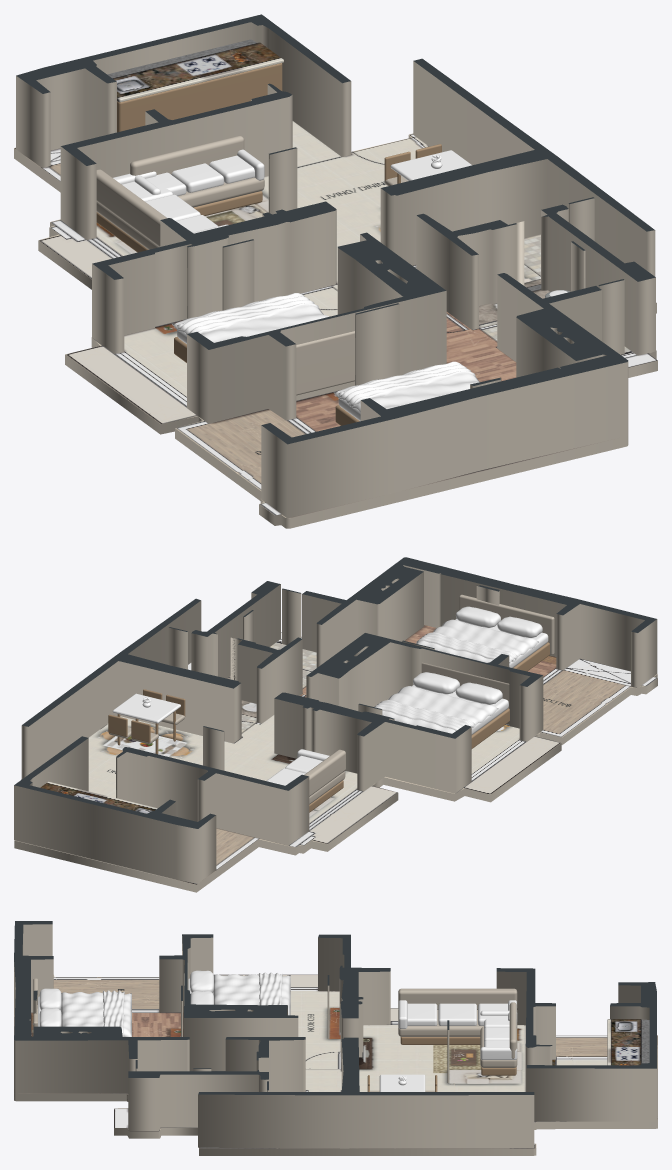
The picture shows the model from 3 angles, top to bottom: view 1: azimuth 30°, elevation 25°; view 2: azimuth 150°, elevation 25°; view 3: azimuth 270°, elevation 25°; orthographic projection. The views are drawn at different scales.
Parts seen in each view (by area): view 1: Partition walls, Apartment floor, Stone worktop, Kitchen cabinets, Upholstered headboard, Sofa back, Sofa back.001, Draped bed linen.001, Draped bed linen.003, Draped bed linen, Draped bed linen.002, Marble dining top (+5 smaller); view 2: Partition walls, Apartment floor, Draped bed linen, Draped bed linen.002, Upholstered headboard.001, Marble dining top, Draped bed linen.001, Draped bed linen.003, Sofa back, Stone worktop, Upholstered headboard, Tailored pillow (+4 smaller); view 3: Partition walls, Apartment floor, Stone worktop, Sofa back, Draped bed linen.002, Draped bed linen, Upholstered sofa frame, Seat cushion.001, Marble dining top, Draped bed linen.003, Draped bed linen.001, Seat cushion (+9 smaller).
Boxes of the visible parts, left/top/right/bottom form: Partition walls: left=16, top=14, right=655, bottom=518; Apartment floor: left=14, top=120, right=657, bottom=528; Stone worktop: left=107, top=39, right=283, bottom=102; Kitchen cabinets: left=117, top=63, right=282, bottom=132; Upholstered headboard: left=296, top=331, right=354, bottom=395; Sofa back: left=96, top=169, right=167, bottom=246; Sofa back.001: left=130, top=135, right=244, bottom=175; Draped bed linen.001: left=177, top=293, right=319, bottom=334; Draped bed linen.003: left=338, top=361, right=475, bottom=406; Draped bed linen: left=171, top=294, right=328, bottom=342; Draped bed linen.002: left=333, top=366, right=479, bottom=412; Marble dining top: left=390, top=150, right=471, bottom=180; Partition walls: left=14, top=557, right=657, bottom=883; Apartment floor: left=14, top=625, right=657, bottom=892; Draped bed linen: left=382, top=686, right=498, bottom=733; Draped bed linen.002: left=417, top=619, right=538, bottom=663; Upholstered headboard.001: left=459, top=594, right=554, bottom=654; Marble dining top: left=112, top=693, right=180, bottom=723; Draped bed linen.001: left=374, top=700, right=474, bottom=730; Draped bed linen.003: left=416, top=632, right=517, bottom=662; Sofa back: left=304, top=749, right=345, bottom=796; Stone worktop: left=40, top=781, right=157, bottom=813; Upholstered headboard: left=421, top=662, right=509, bottom=708; Tailored pillow: left=455, top=682, right=502, bottom=704; Partition walls: left=14, top=921, right=656, bottom=1148; Apartment floor: left=14, top=974, right=657, bottom=1155; Stone worktop: left=607, top=1019, right=649, bottom=1065; Sofa back: left=398, top=988, right=517, bottom=1009; Draped bed linen.002: left=61, top=992, right=131, bottom=1036; Draped bed linen: left=213, top=974, right=290, bottom=1015; Upholstered sofa frame: left=398, top=1010, right=517, bottom=1036; Seat cushion.001: left=438, top=1003, right=476, bottom=1025; Marble dining top: left=379, top=1074, right=425, bottom=1091; Draped bed linen.003: left=102, top=990, right=124, bottom=1036; Draped bed linen.001: left=258, top=972, right=282, bottom=1005; Seat cushion: left=407, top=1003, right=437, bottom=1025.
Bounding box in the file's own units: 8.14 × 1.3 × 12.53.
Materials: 10 (1 with a texture image).
